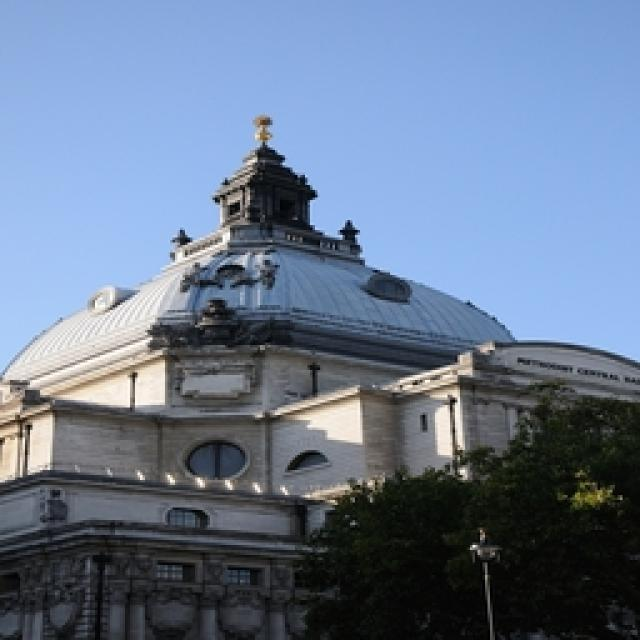Abbey: (64, 82, 579, 524)
